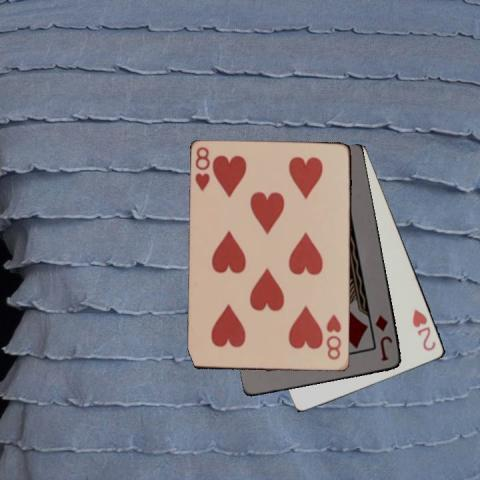2h: (410, 306, 438, 352)
8h: (323, 312, 343, 362), (192, 144, 212, 193)
Jd: (372, 312, 394, 363)
